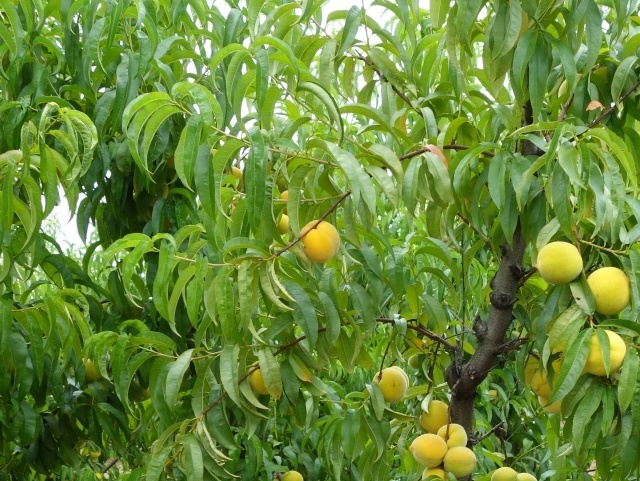peach: (585, 262, 633, 319), (534, 238, 586, 286), (582, 328, 630, 377), (297, 217, 343, 264), (368, 366, 412, 407), (408, 430, 450, 470), (440, 445, 478, 480), (420, 397, 452, 436), (531, 364, 562, 403), (434, 420, 468, 454), (533, 390, 571, 420), (246, 356, 272, 399), (486, 462, 521, 481)
